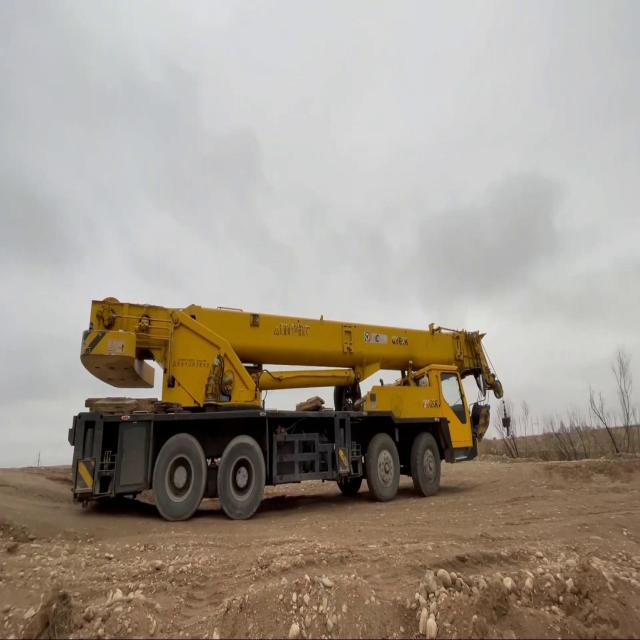crane: (67, 297, 512, 520)
